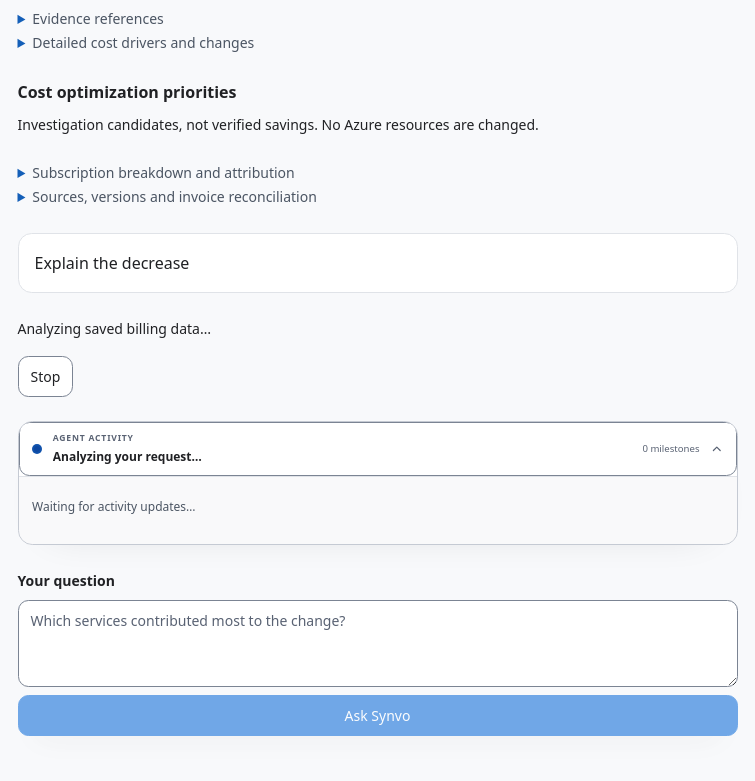
Billing Insights › places follow-up activity after its accepted question and before the composer while history catches up
(page scrolled)
Expected: the number of elements named "Billing request status" is 1, x1=18 y1=317 x2=738 y2=545
Click the button "Stop". click: (45, 377)
box: x1=18 y1=356 x2=73 y2=397
(page scrolled)
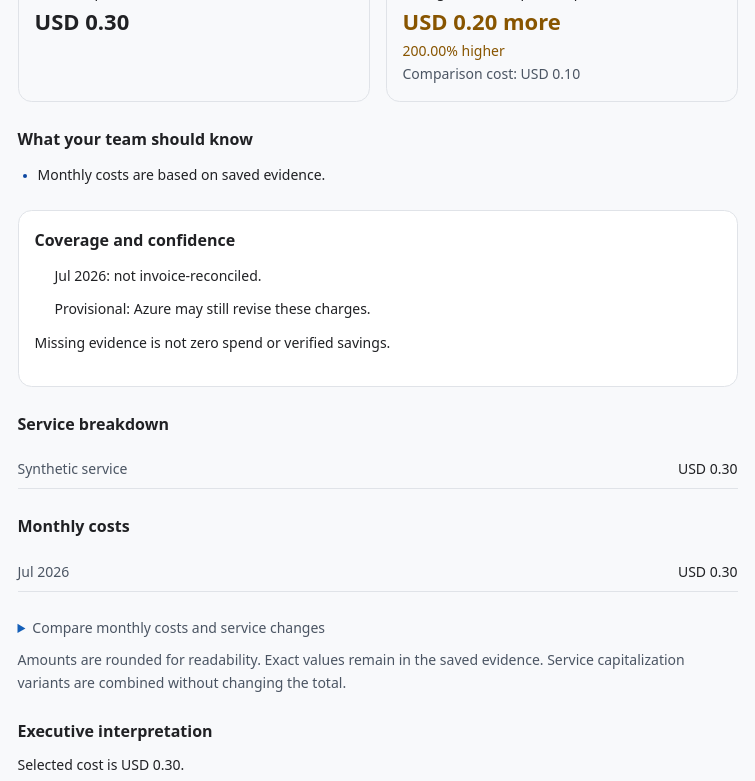
Expected: the message "Analyzing saved billing data…" is gone
